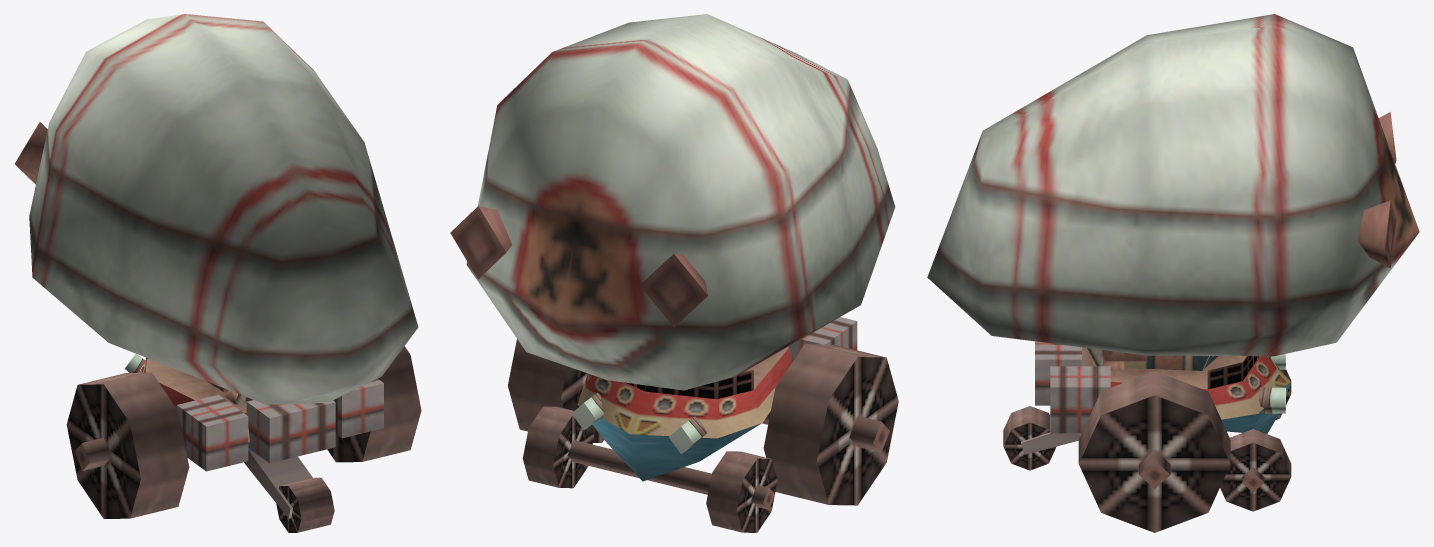
The model's file is mf5.ico.obj.
3 views of the same model, side by side, from view 1: azimuth 30°, elevation 25°; view 2: azimuth 150°, elevation 25°; view 3: azimuth 270°, elevation 25° (orthographic). The views are drawn at different scales.
Size of the model in its own units: 3.75 by 4.74 by 4.83.
Materials: 1 (1 with a texture image).
